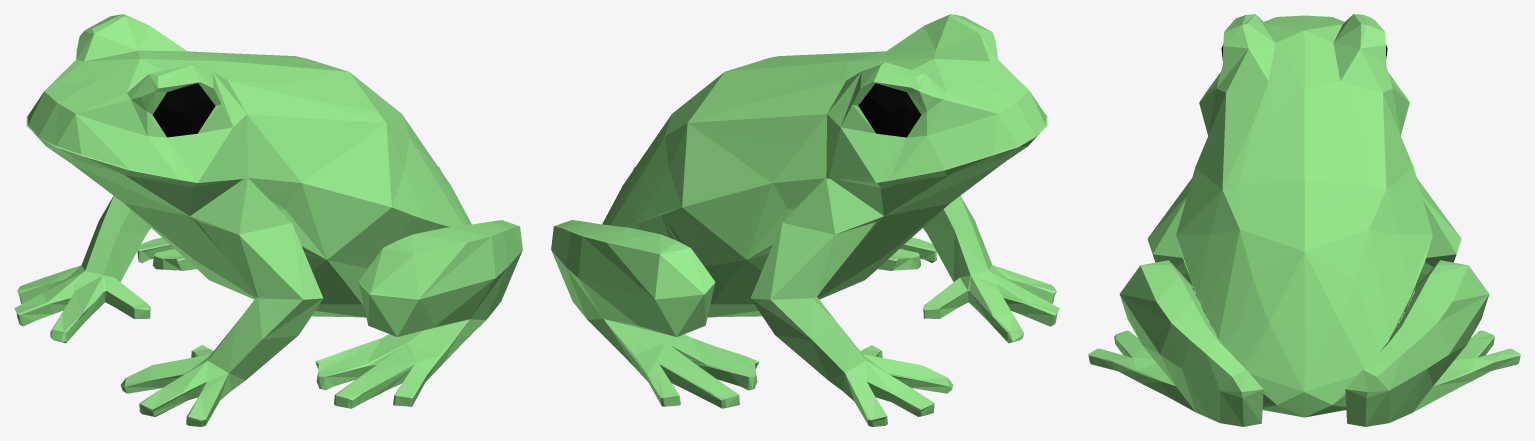
Rendered from Rana.fbx.
3 renders of one model, left to right at view 1: azimuth 30°, elevation 25°; view 2: azimuth 150°, elevation 25°; view 3: azimuth 270°, elevation 25°, orthographic. The views are drawn at different scales.
Parts seen in each view (by area): view 1: frog-without-roc; view 2: frog-without-roc; view 3: frog-without-roc.
Part boxes in pixels (left/top/right/bottom): frog-without-roc: left=14, top=14, right=522, bottom=426; frog-without-roc: left=551, top=14, right=1059, bottom=426; frog-without-roc: left=1088, top=14, right=1520, bottom=426.
Bounding box in the file's own units: 230 × 156 × 216.
